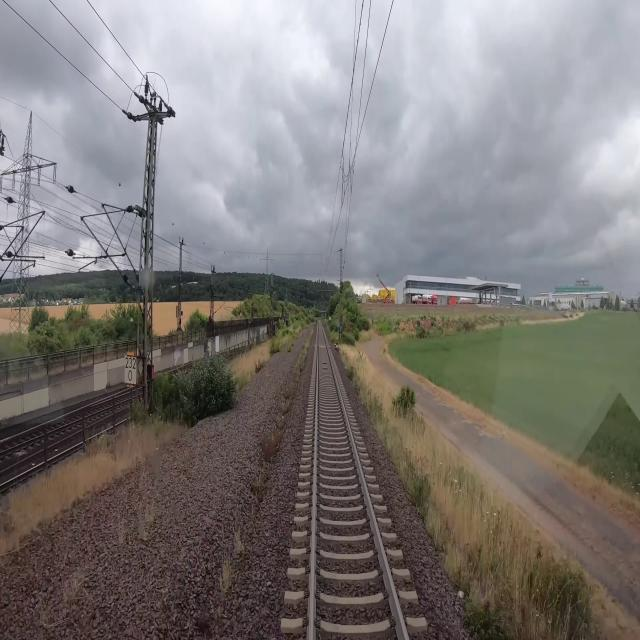Plant: (462, 605, 488, 639)
